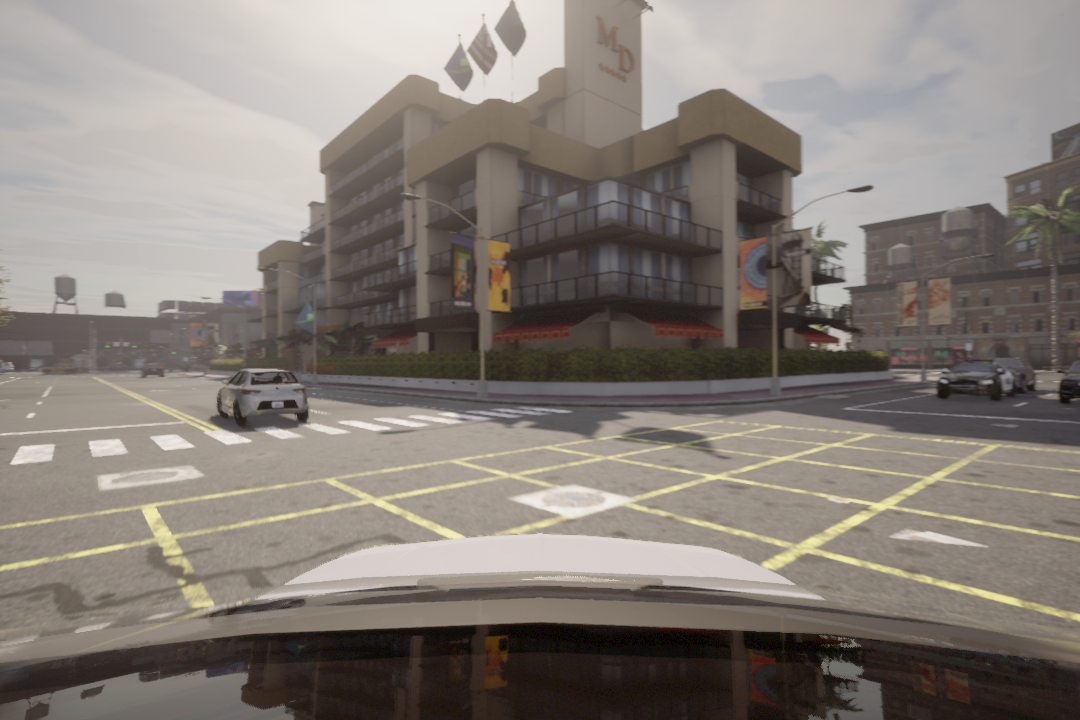walkside: (3, 405, 584, 471)
